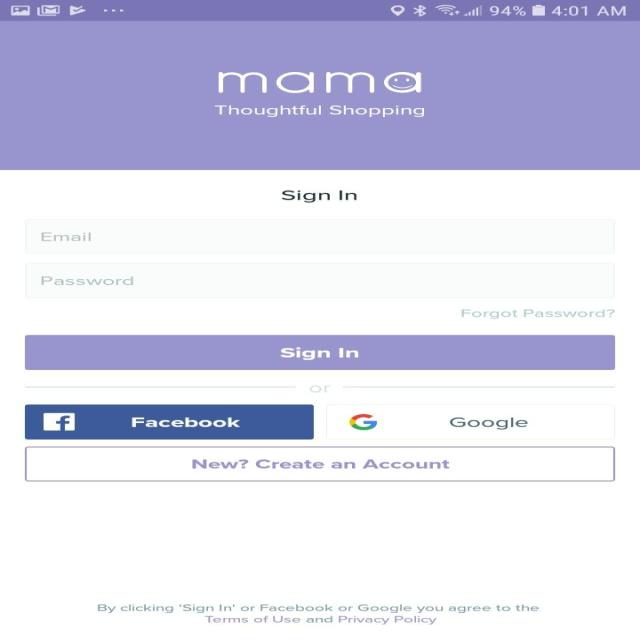EditText: (24, 218, 614, 254), (24, 263, 614, 298)
Image: (216, 71, 422, 94)
Text: (97, 603, 539, 625), (213, 105, 424, 118), (460, 309, 614, 319), (280, 190, 356, 203), (42, 276, 134, 285), (41, 232, 91, 241), (308, 384, 330, 392)
TextButton: (24, 446, 614, 481), (24, 335, 614, 370), (24, 404, 314, 440), (326, 404, 614, 440)
